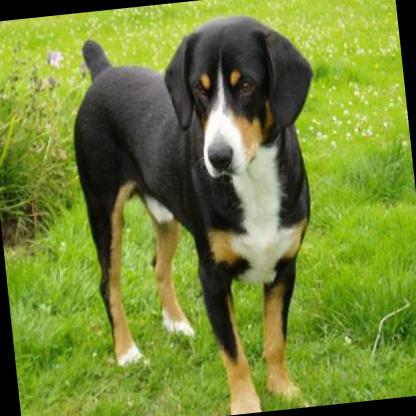EntleBucher: (61, 5, 348, 416)
